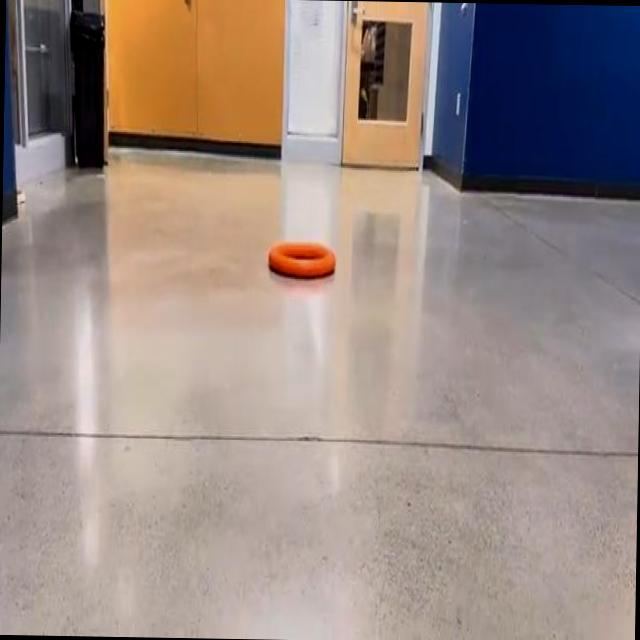note: (268, 242, 335, 277)
